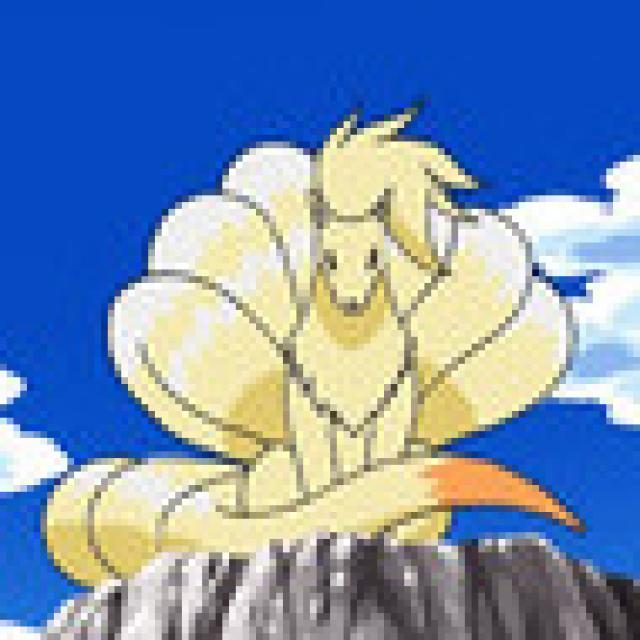Ninetales: (112, 138, 576, 540)
